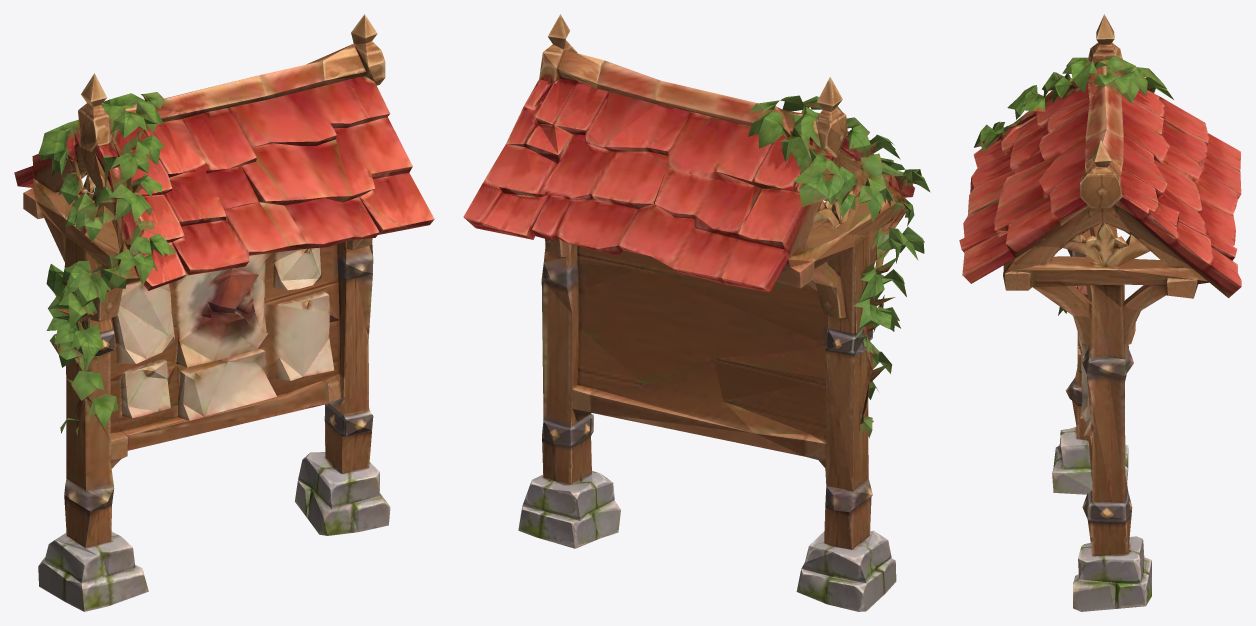
The model's file is prop_noticeboard.glb.
3 views of the same model, side by side, from view 1: azimuth 30°, elevation 25°; view 2: azimuth 150°, elevation 25°; view 3: azimuth 270°, elevation 25° (orthographic). The views are drawn at different scales.
Visible parts, largest first — view 1: output_unwrapped; view 2: output_unwrapped; view 3: output_unwrapped.
Boxes of the visible parts, x1=… form: output_unwrapped: x1=14, y1=14, x2=434, y2=611; output_unwrapped: x1=463, y1=14, x2=930, y2=611; output_unwrapped: x1=959, y1=14, x2=1241, y2=611.
Bounding box in the file's own units: 1.36 × 1.9 × 1.03.
1 material, 1 textured.
